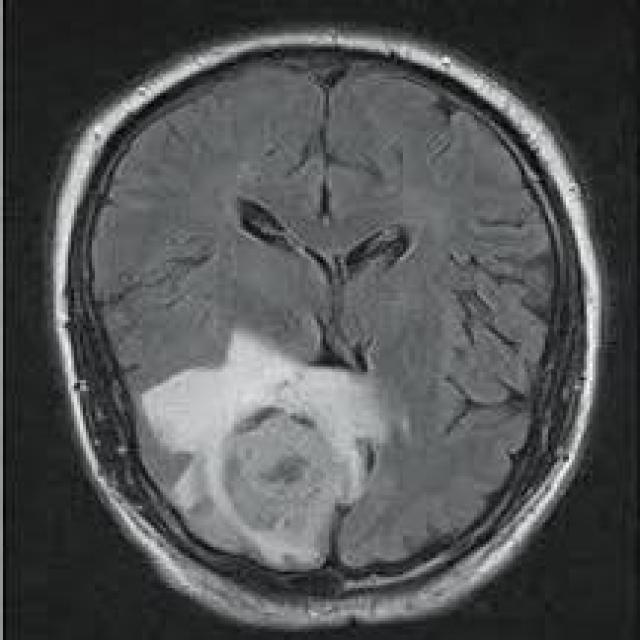brain tumor: (142, 320, 391, 569)
